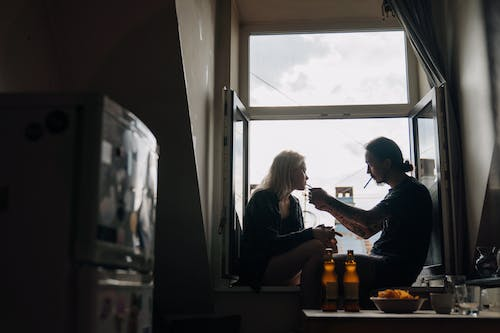alcohol: (341, 247, 362, 314), (320, 247, 339, 313)
cigarette: (363, 176, 373, 189), (306, 183, 314, 188)
